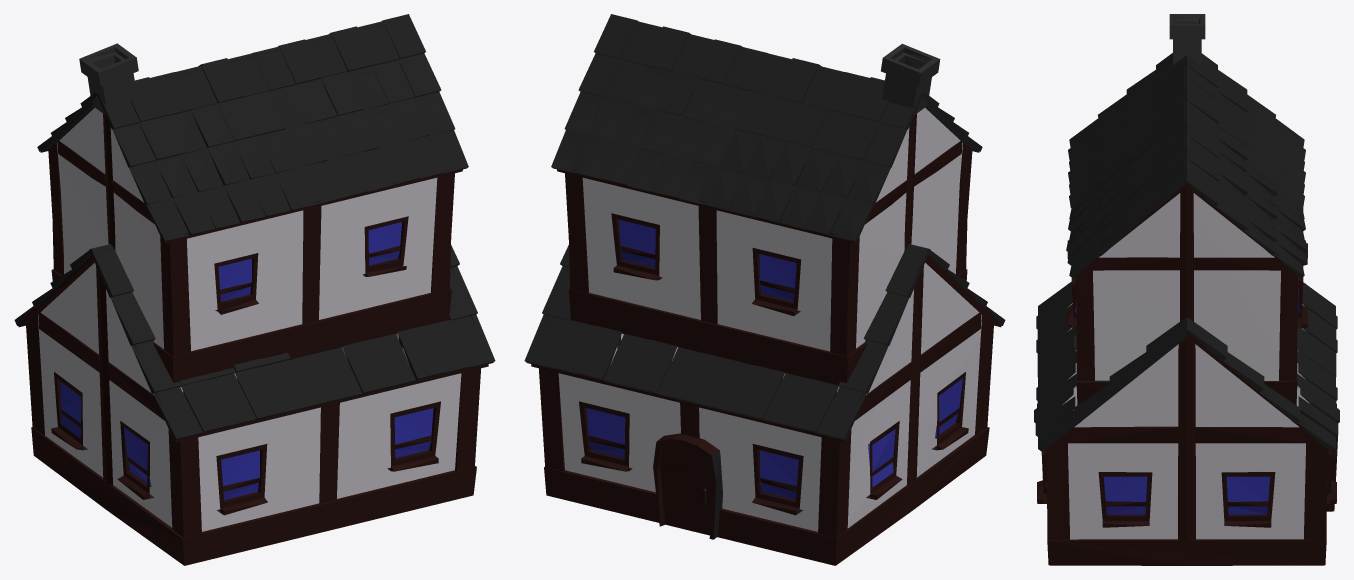
The model's file is house.obj.
3 views of the same model, side by side, from view 1: azimuth 30°, elevation 25°; view 2: azimuth 150°, elevation 25°; view 3: azimuth 270°, elevation 25° (orthographic). The views are drawn at different scales.
Visible parts, largest first — view 1: Cube.009_Cube.019; view 2: Cube.009_Cube.019; view 3: Cube.009_Cube.019.
Part boxes in pixels (x1,y1,x2,y2): Cube.009_Cube.019: (14,14,495,565); Cube.009_Cube.019: (524,14,1005,565); Cube.009_Cube.019: (1034,14,1339,565).
Size of the model in its own units: 37.67 by 49.78 by 32.98.
